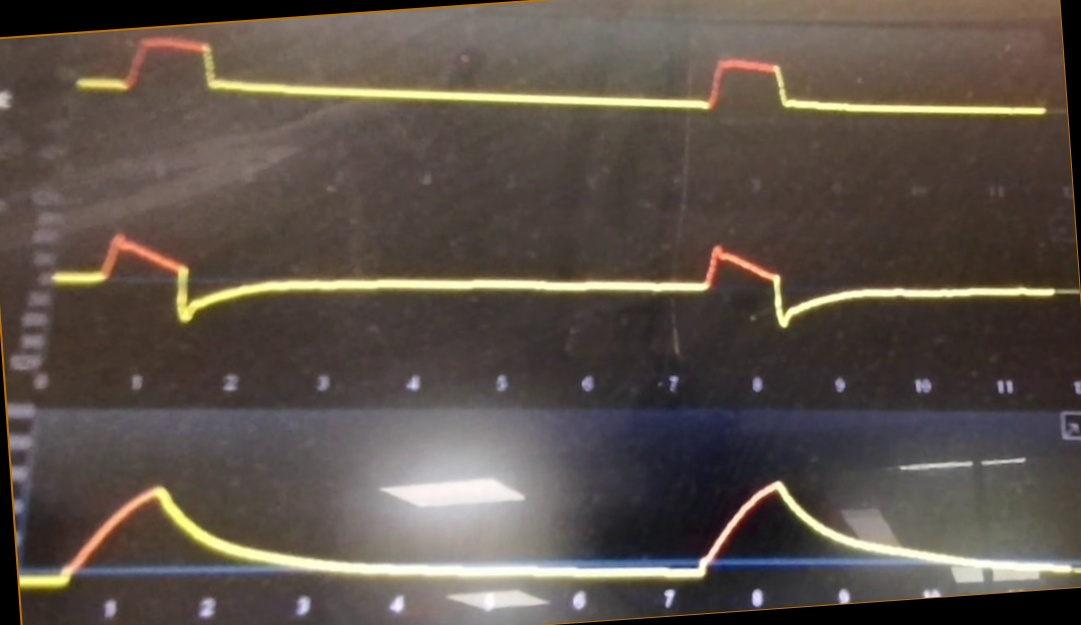Normal Flow: (54, 209, 1063, 342)
Normal Volume: (24, 464, 1077, 587)
